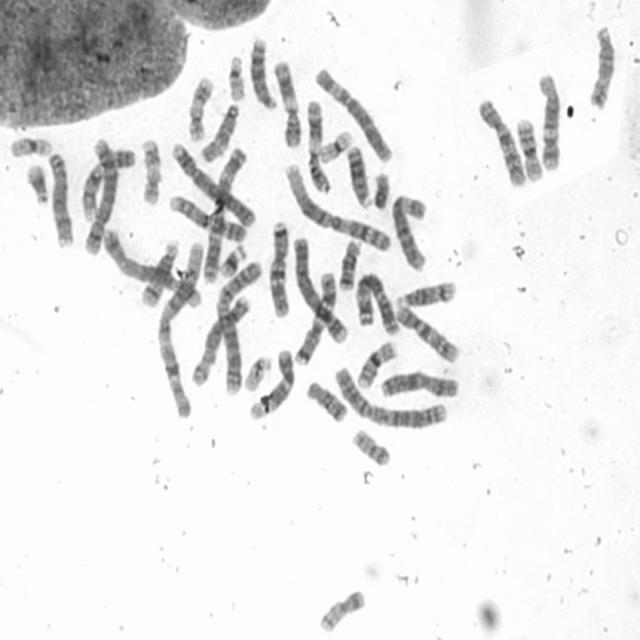A1: (281, 160, 394, 252), (154, 236, 206, 419)
A2: (332, 362, 450, 431), (210, 253, 264, 398)
A3: (199, 142, 250, 286), (351, 267, 403, 337)
B4: (168, 137, 258, 229), (290, 232, 349, 344)
B5: (100, 225, 204, 310), (81, 133, 120, 258)
C10: (475, 94, 528, 188), (392, 300, 462, 364)
C11: (271, 57, 303, 148), (304, 94, 331, 194)
C12: (248, 345, 296, 422), (535, 70, 563, 172)
C6: (312, 64, 394, 165), (386, 188, 430, 272)
C7: (290, 266, 338, 366), (265, 217, 291, 319)
C8: (187, 289, 254, 387), (44, 148, 75, 249)
C9: (77, 145, 136, 224), (165, 188, 249, 242)
D13: (246, 33, 280, 113), (343, 140, 374, 210)
D14: (137, 236, 180, 308), (394, 276, 458, 310)
D15: (586, 21, 618, 111), (198, 100, 241, 164)
E16: (513, 114, 545, 183), (354, 338, 398, 388)
E17: (185, 73, 216, 142), (138, 134, 163, 207)
E18: (303, 376, 349, 425), (335, 235, 362, 292)
F19: (317, 126, 355, 166), (6, 132, 54, 159)
F20: (315, 585, 369, 635), (349, 425, 393, 467)
G21: (22, 159, 50, 207), (215, 240, 248, 279)
G22: (240, 350, 273, 393), (225, 52, 246, 102)
X: (377, 368, 460, 400)
Y: (370, 169, 391, 211)
